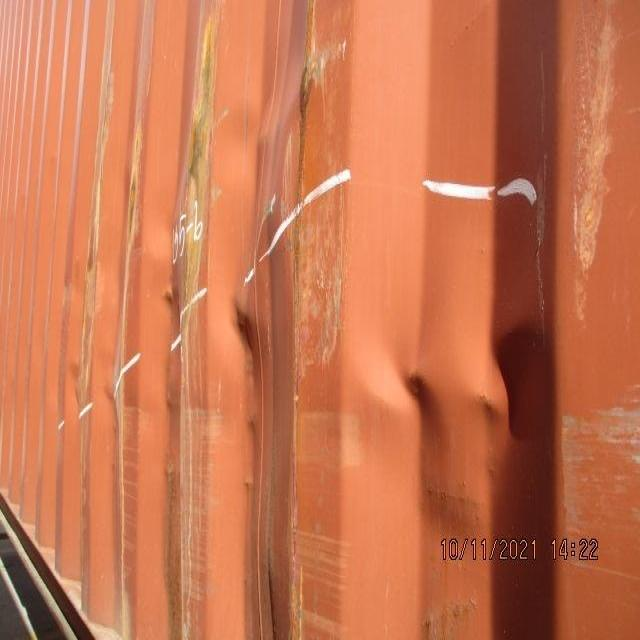dent: (62, 78, 567, 512)
